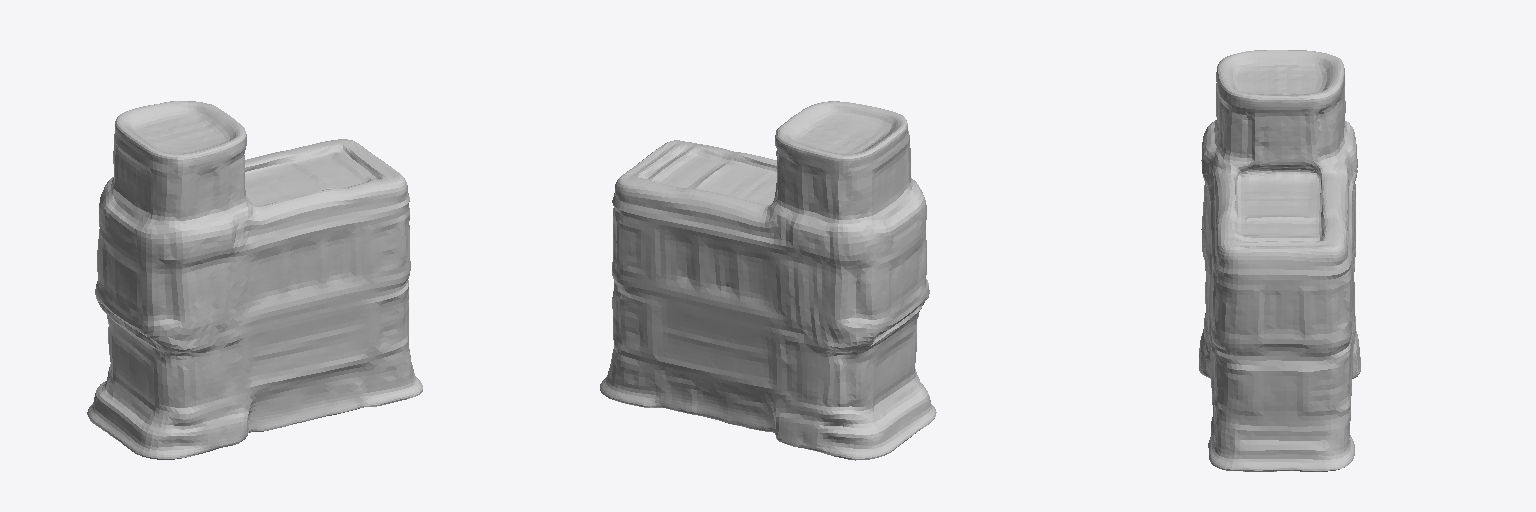
The model's file is be78067b9b9e_sci_fi_building__HD.obj.
3 views of the same model, side by side, from view 1: azimuth 30°, elevation 25°; view 2: azimuth 150°, elevation 25°; view 3: azimuth 270°, elevation 25° (orthographic).
Visible parts, largest first — view 1: mesh; view 2: mesh; view 3: mesh.
Part boxes in pixels (bbox=[...]): mesh: bbox=[87, 101, 422, 459]; mesh: bbox=[600, 101, 936, 460]; mesh: bbox=[1199, 50, 1360, 471].
Bounding box in the file's own units: 0.998 × 0.9764 × 0.4887.